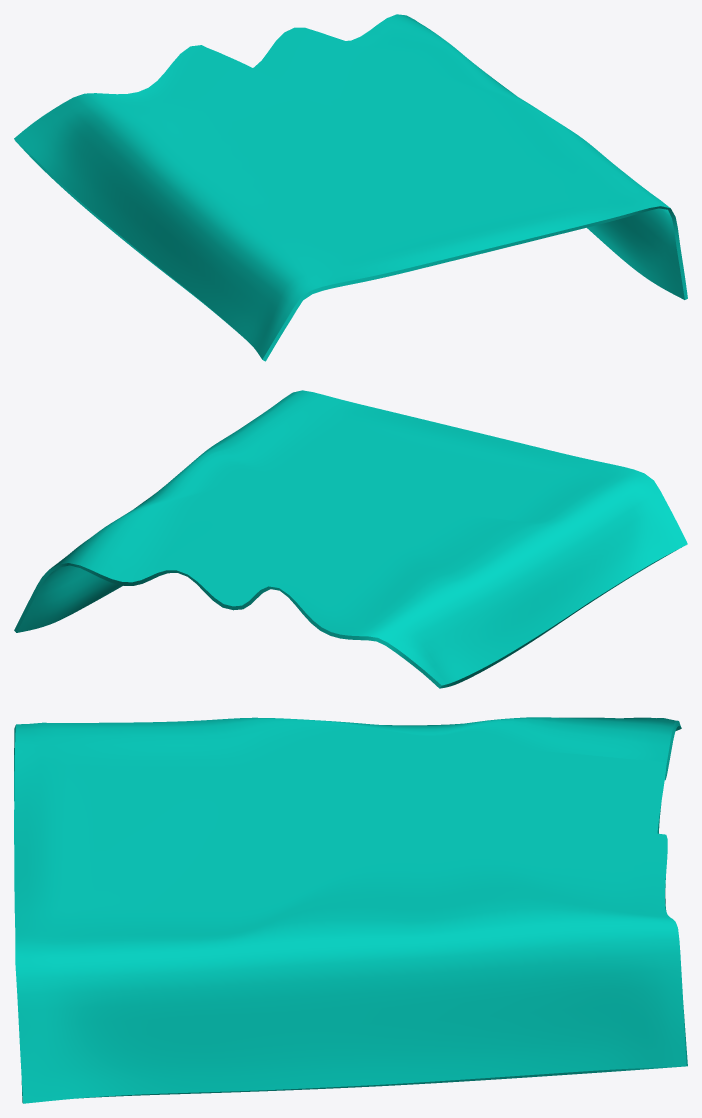
File: Blanket00_FBX.fbx
3 views of the same model, one above another, from view 1: azimuth 30°, elevation 25°; view 2: azimuth 150°, elevation 25°; view 3: azimuth 270°, elevation 25° (orthographic). The views are drawn at different scales.
Visible parts, largest first — view 1: Blanket01; view 2: Blanket01; view 3: Blanket01.
Part boxes in pixels (x1=…): Blanket01: x1=14, y1=14, x2=687, y2=361; Blanket01: x1=14, y1=390, x2=687, y2=688; Blanket01: x1=14, y1=717, x2=687, y2=1103.
Bounding box in the file's own units: 248 × 82.07 × 252.
